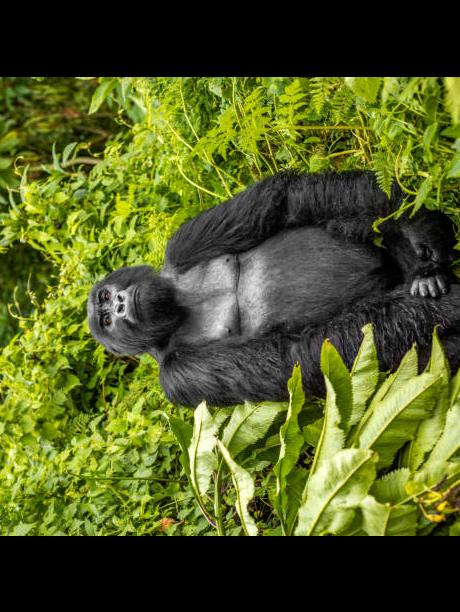goriile_montagne: (74, 172, 456, 406)
